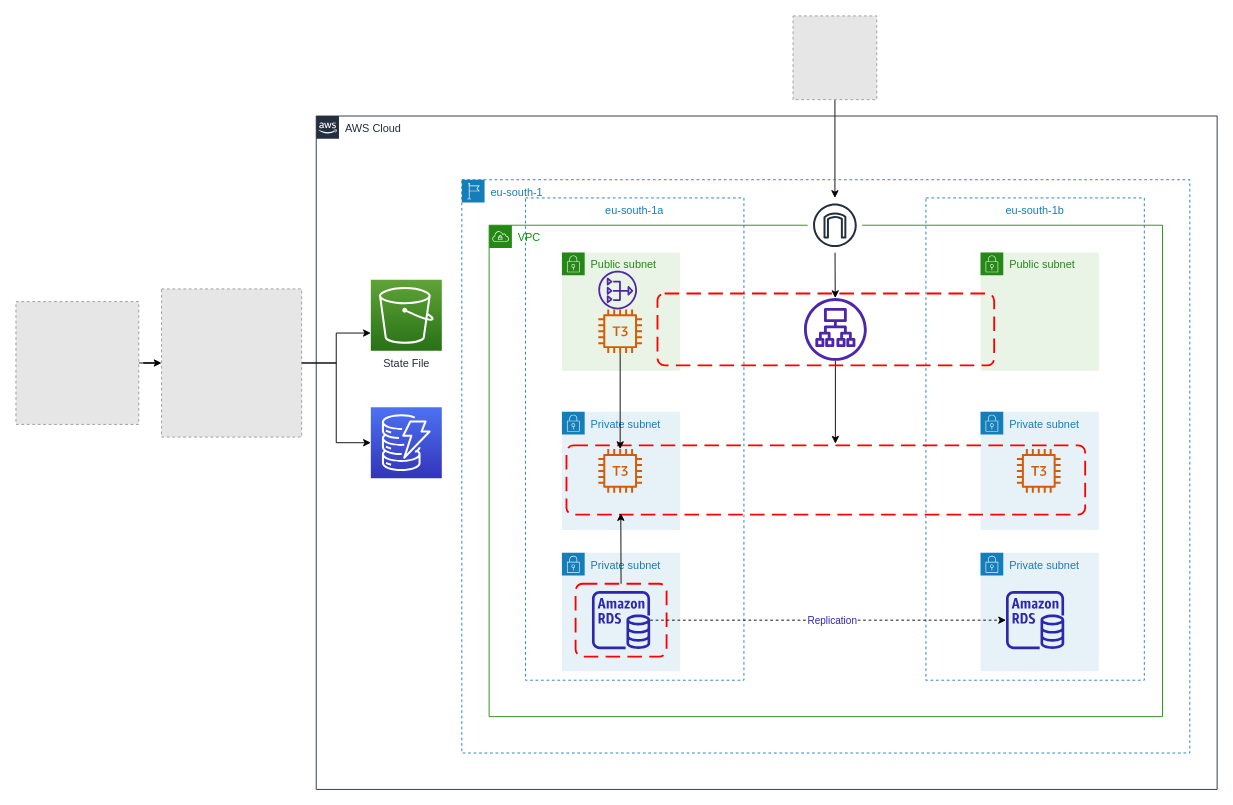
The diagram is 1233 pixels wide and 805 high, and some of its shapes have lost their labels. Grey dashed boxes stand in for pictures. The centre of each missing label's shape, as x and y in pixels:
Bastion Host: [620,331]
Failover DB: [1035,620]
Internet gateway: [834,225]
LockID: [406,442]
Web Server 1: [620,470]
Web Server 2: [1038,470]
